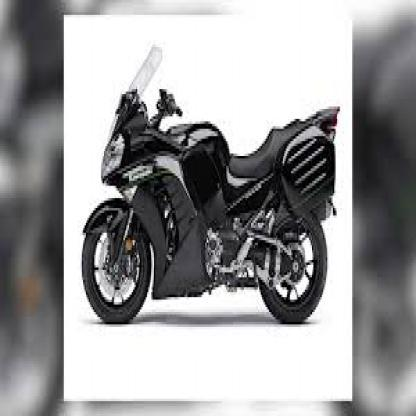Motorcycle: (79, 42, 347, 326)
